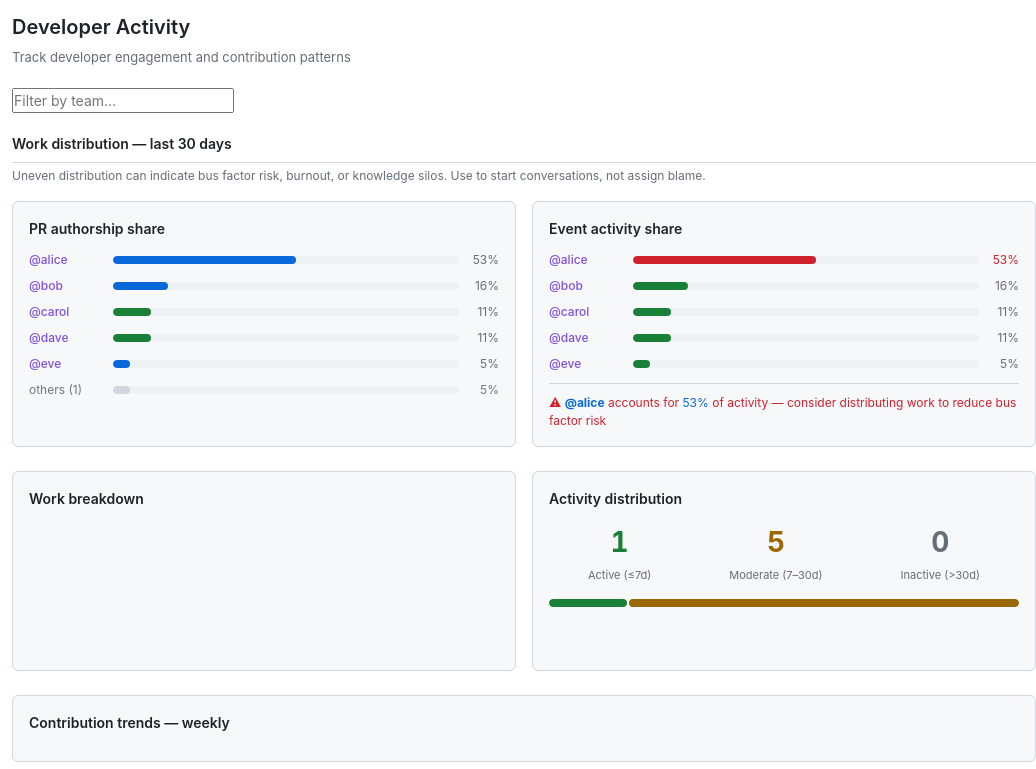
Test: DevActivityPage › filters suggestions as user types in team autocomplete
Type "plat" into the dropdown named "Filter developers by team" at [123, 100], box left=12, top=88, right=234, bottom=112
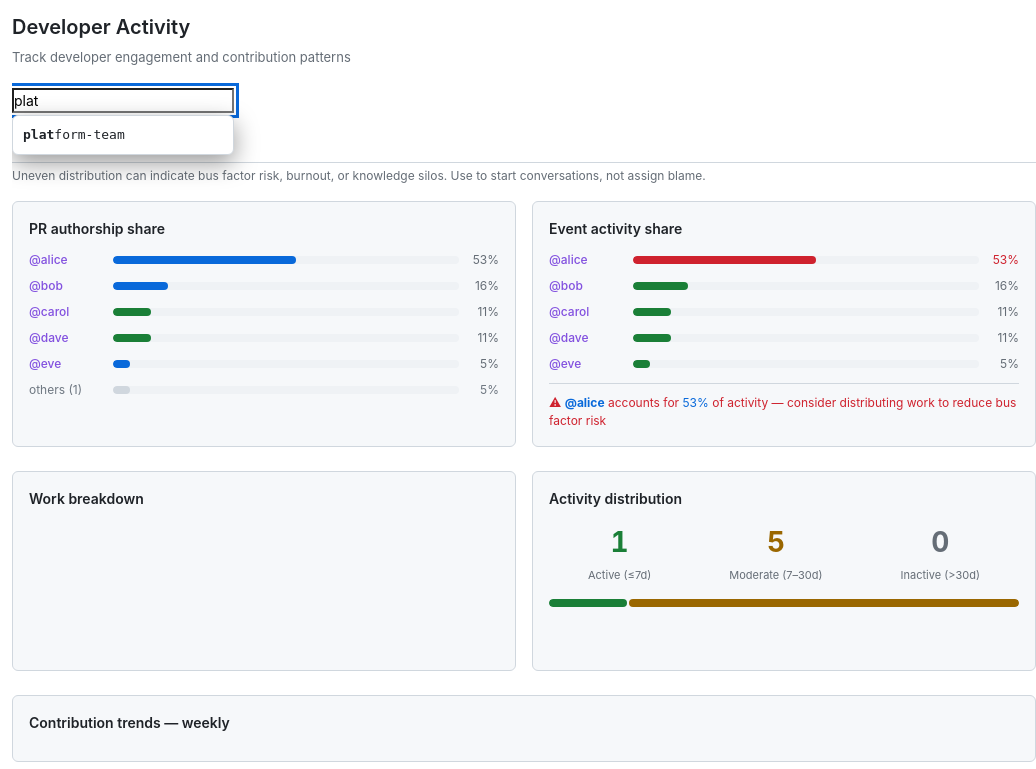
Check: the option "platform-team" is shown, box left=23, top=126, right=125, bottom=142
